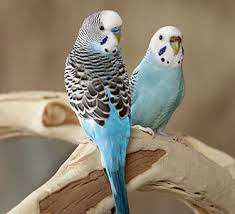budgie: (63, 8, 132, 214), (133, 24, 186, 137)
